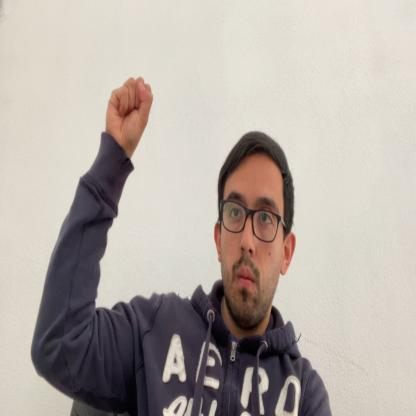S: (106, 76, 153, 144)
